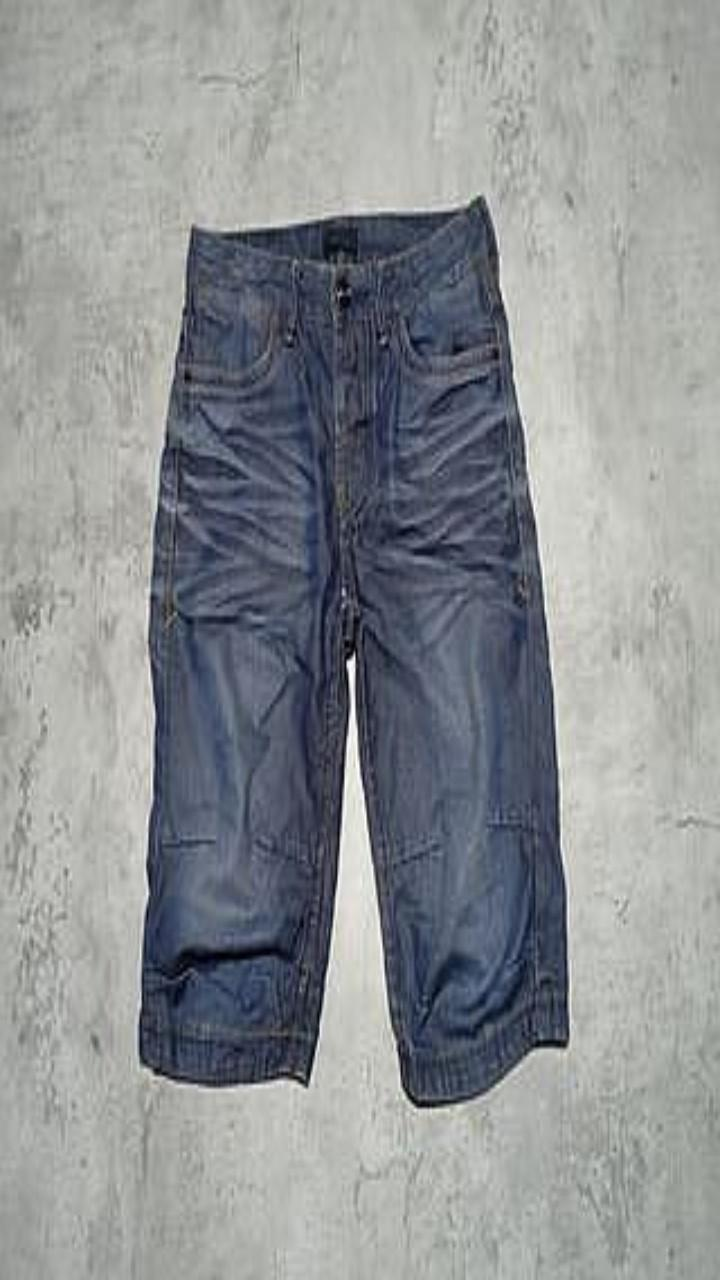Shorts: (139, 196, 568, 1103)
